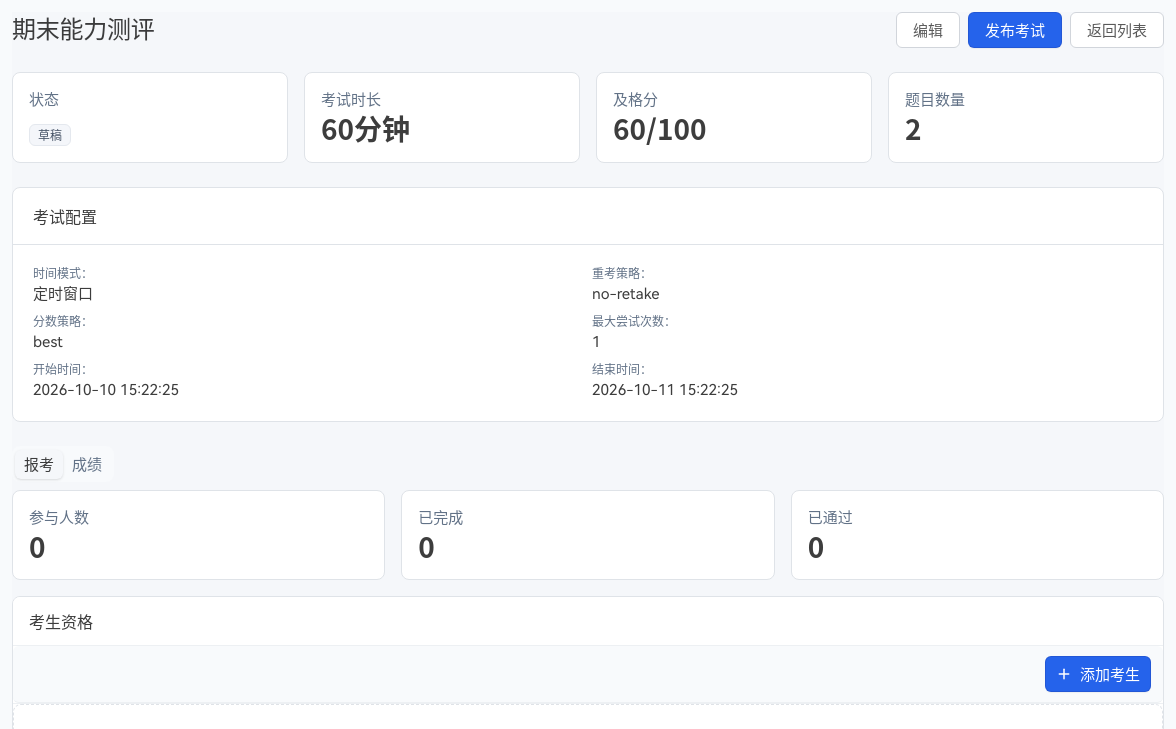
Test: ExamDetailPage › publish and archive › shows publish error message on failure
This screenshot has width=1176, height=729.
Click the button "发布考试" at (1015, 30), box x1=968 y1=12 x2=1062 y2=48
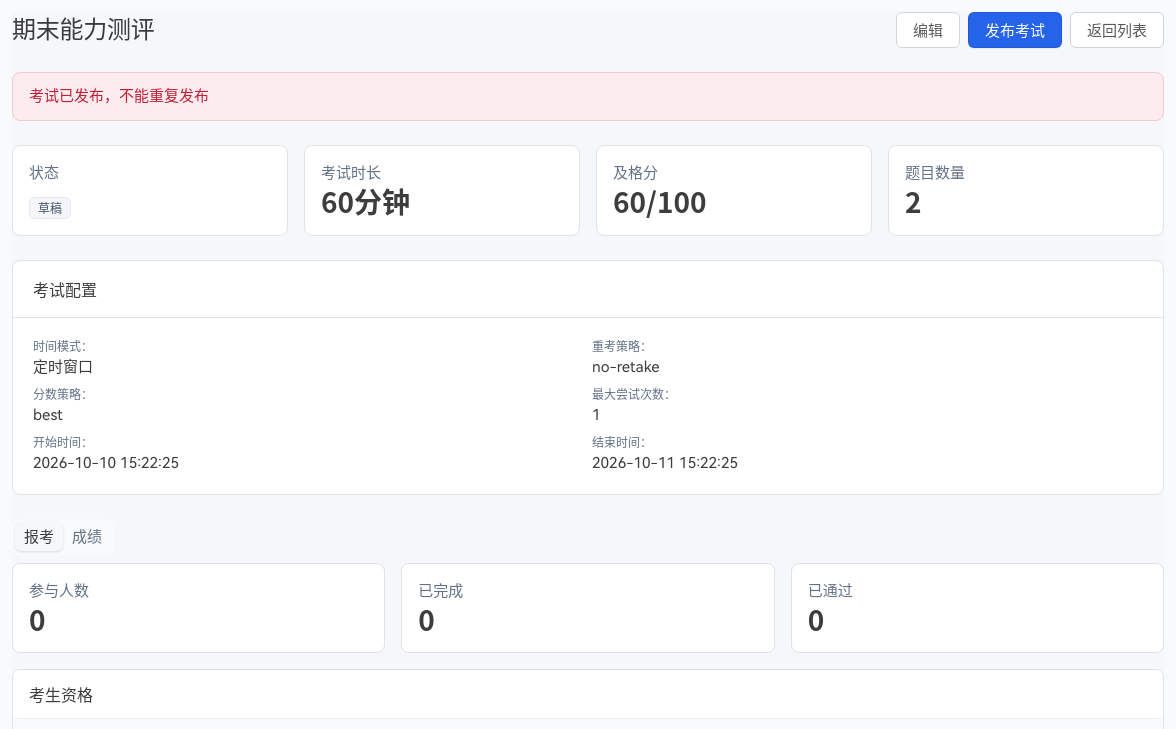
Expected: the text "考试已发布，不能重复发布" is shown, x1=12 y1=72 x2=1164 y2=120
